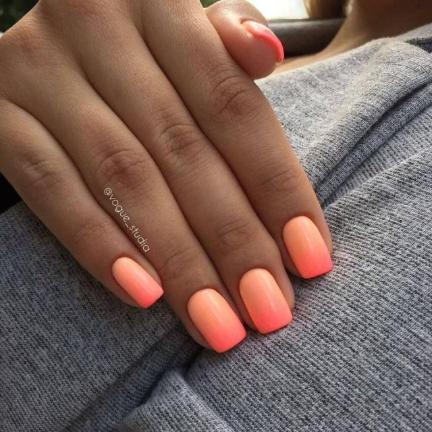Nail: (187, 288, 246, 353), (238, 268, 293, 334), (283, 216, 332, 278), (112, 257, 164, 308)
